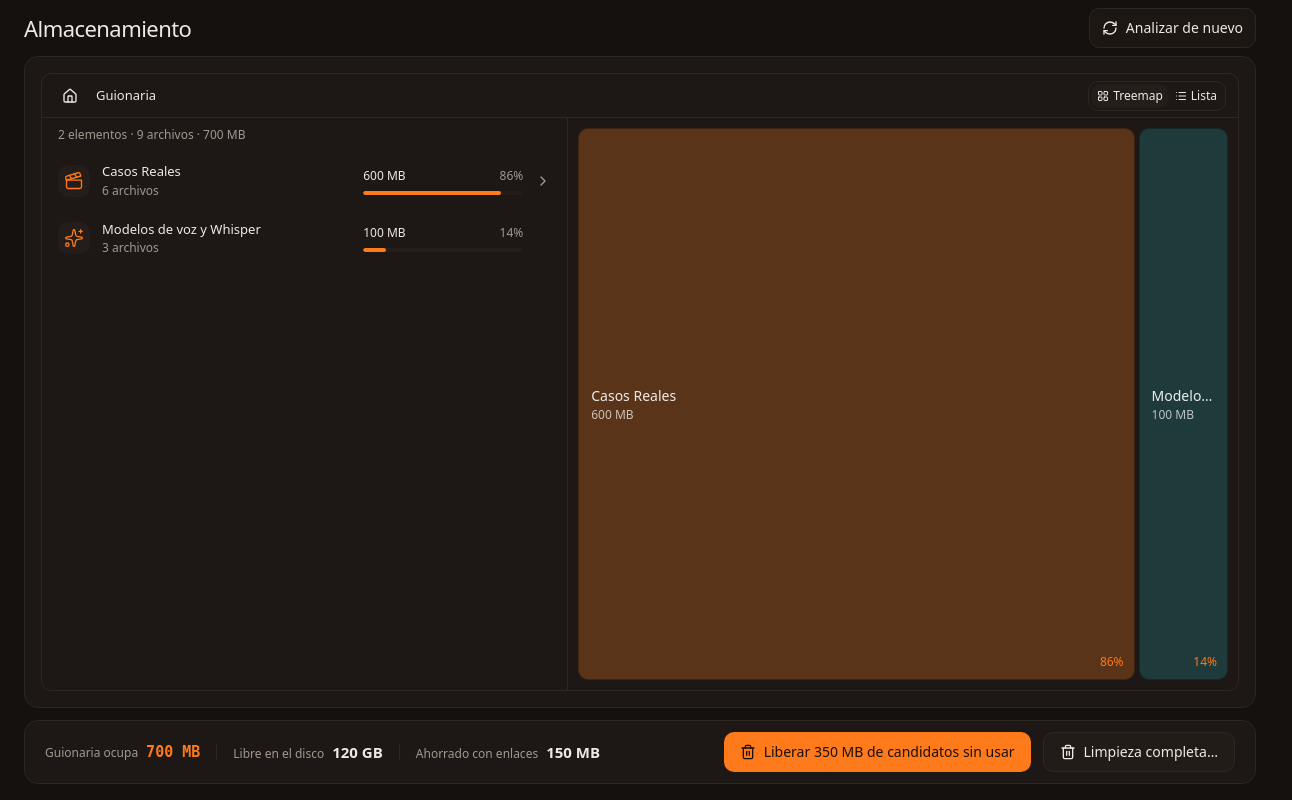
Test case: pantalla de almacenamiento › lista con porcentajes, treemap y navegación por niveles
Expected: the text "700 MB" is shown, [146,741,200,763]
Expected: the text "120 GB" is shown, [332,741,383,763]
Step 1. Click the text "Casos Reales" below "elementos ·" → (141, 171), box [102,162,181,180]
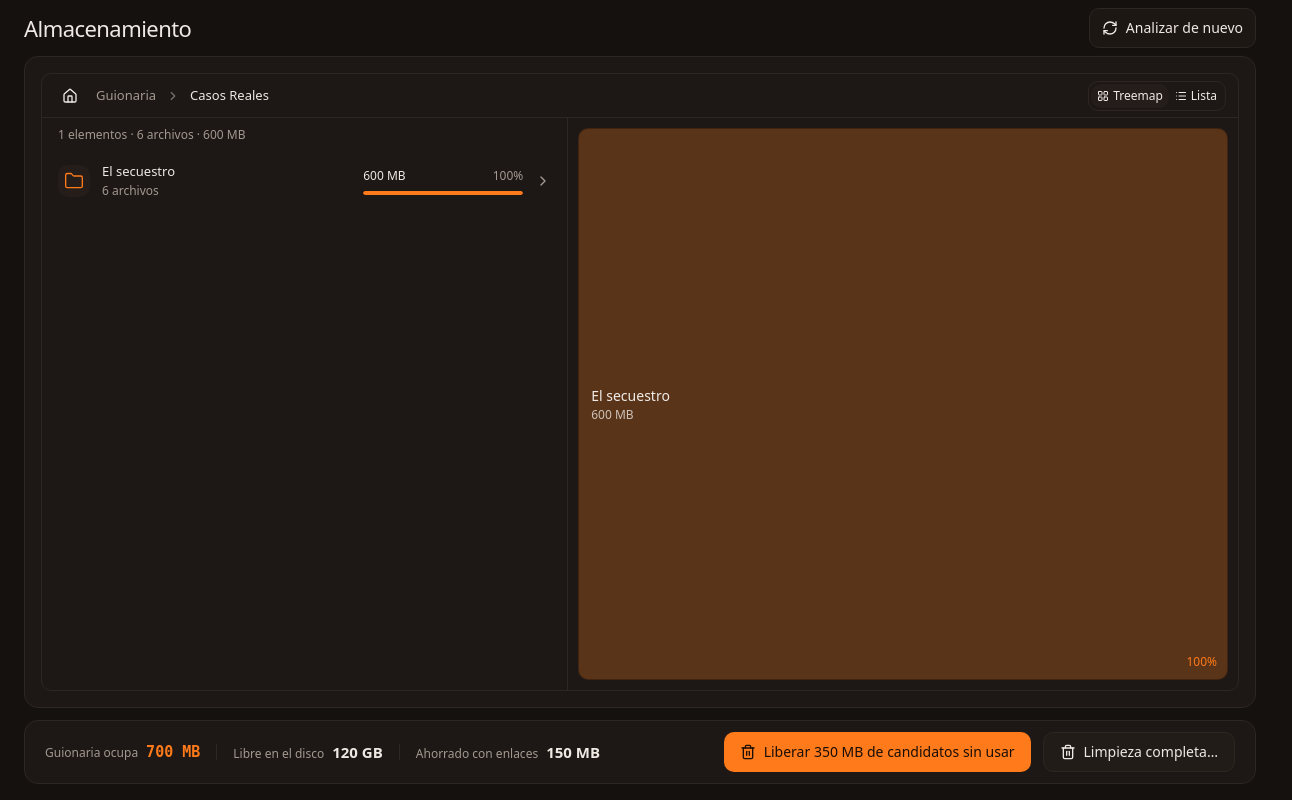
Step 2. Click the text "El secuestro" below "elementos ·" → (138, 171), box [102,162,175,180]
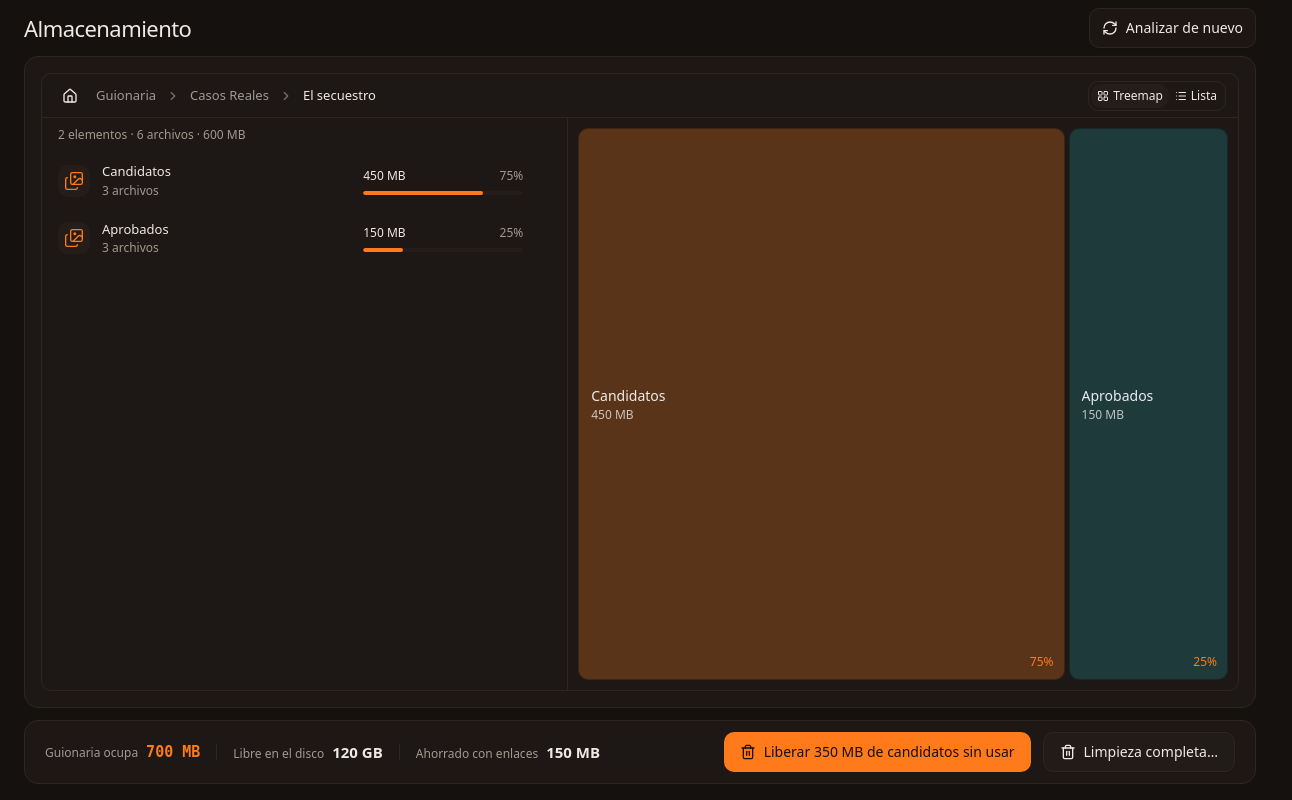
Now the text "Candidatos" below "elementos ·" is shown, box [102,162,171,180]
Now the text "75%" below "600 MB" is shown, box [500,167,523,185]
// Migas: volver al canal.
Step 3. Click the button "Casos Reales" → (230, 96), box [184,84,275,107]
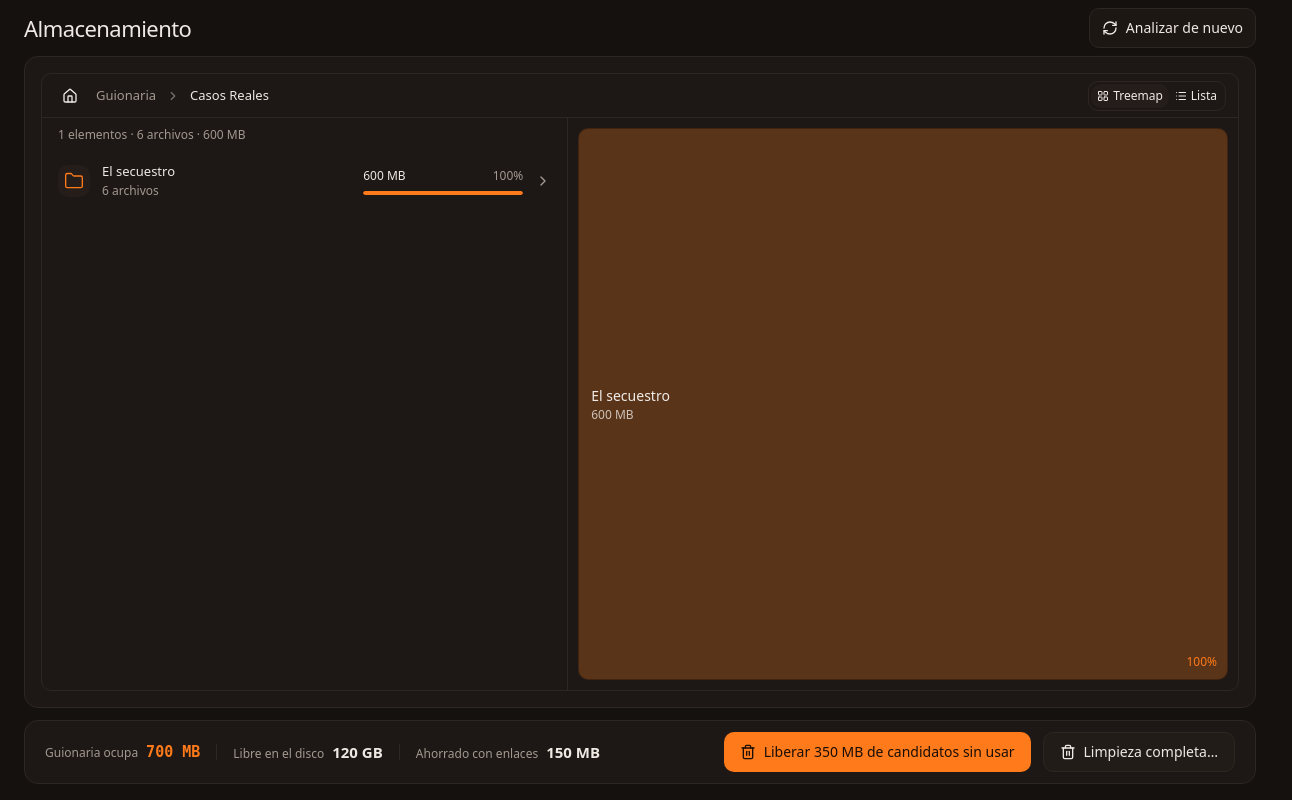
Now the text "El secuestro" below "elementos ·" is shown, box [102,162,175,180]
Step 4. Click the button "Lista" → (1196, 96), box [1169,84,1223,108]
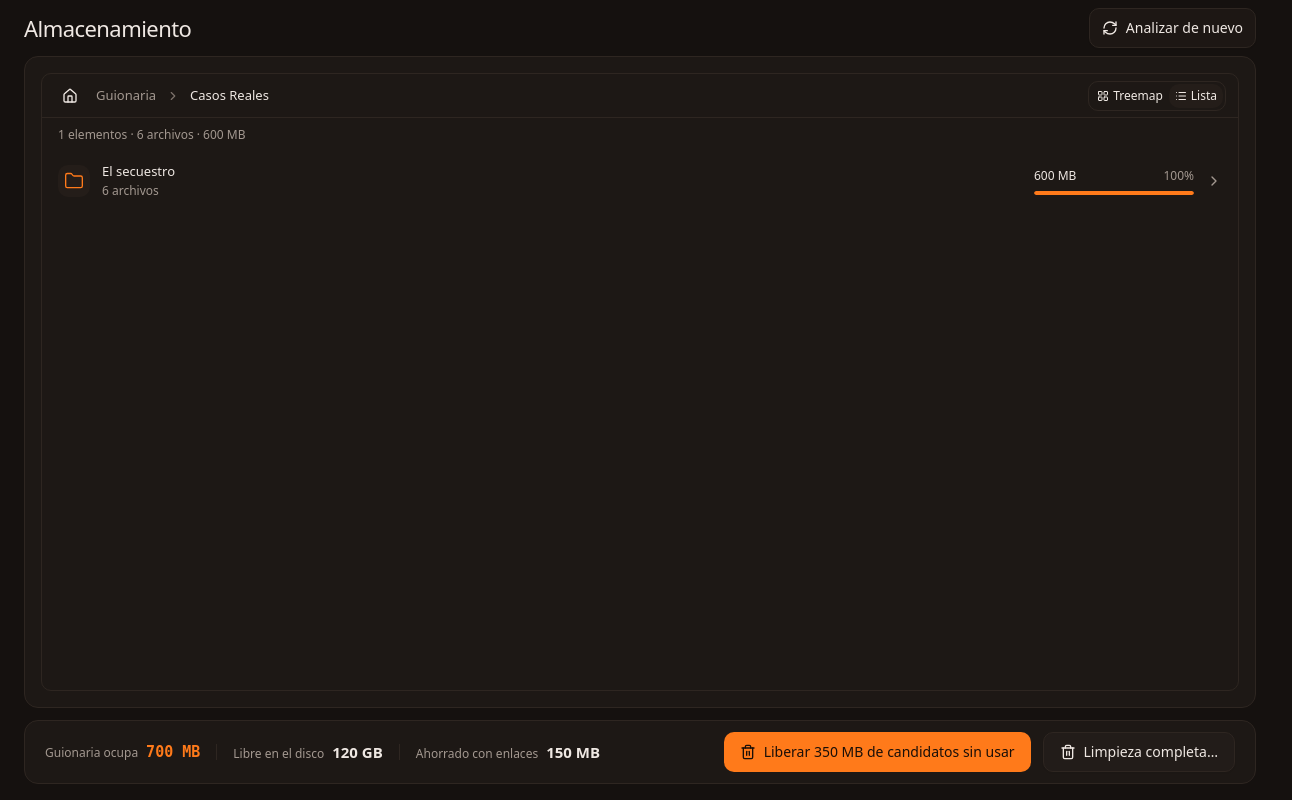
Now the element with test id "treemap" is gone
